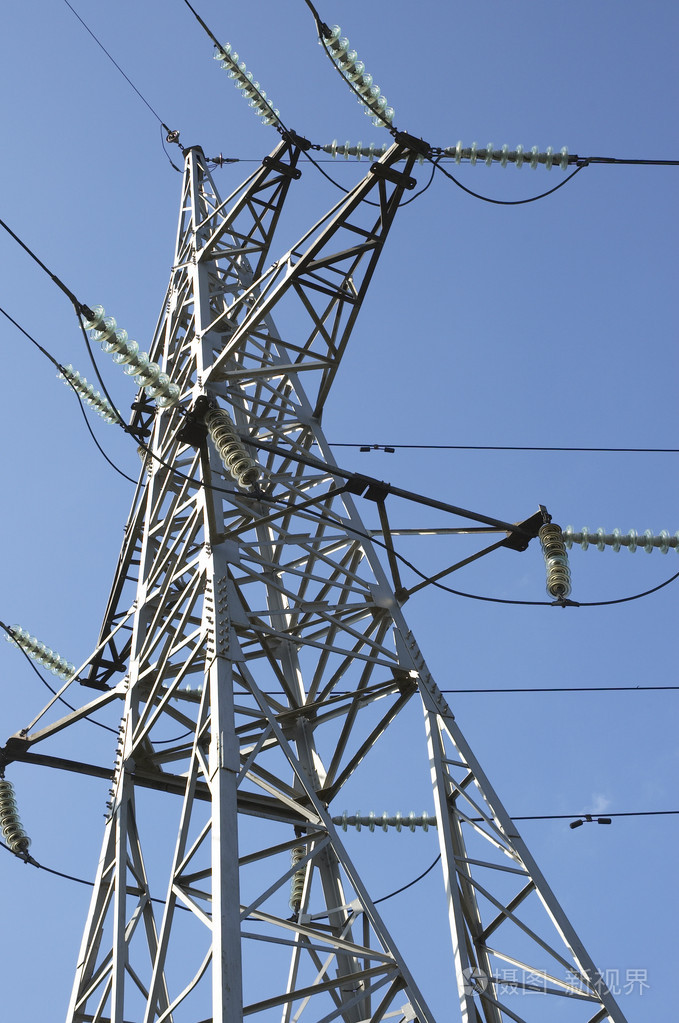insulator: (77, 308, 184, 406), (315, 26, 395, 125), (215, 42, 278, 126), (208, 407, 263, 492), (565, 522, 679, 559), (54, 367, 121, 424), (448, 142, 572, 171), (7, 629, 74, 681), (538, 520, 571, 601), (337, 809, 434, 833), (1, 780, 32, 853), (323, 139, 387, 160), (290, 845, 310, 905)
